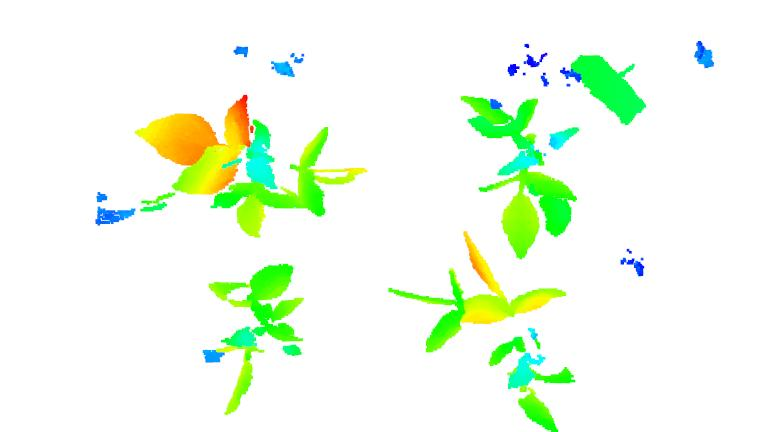mungbean: (392, 236, 575, 432), (141, 95, 371, 240), (458, 92, 576, 263), (204, 262, 314, 414)
